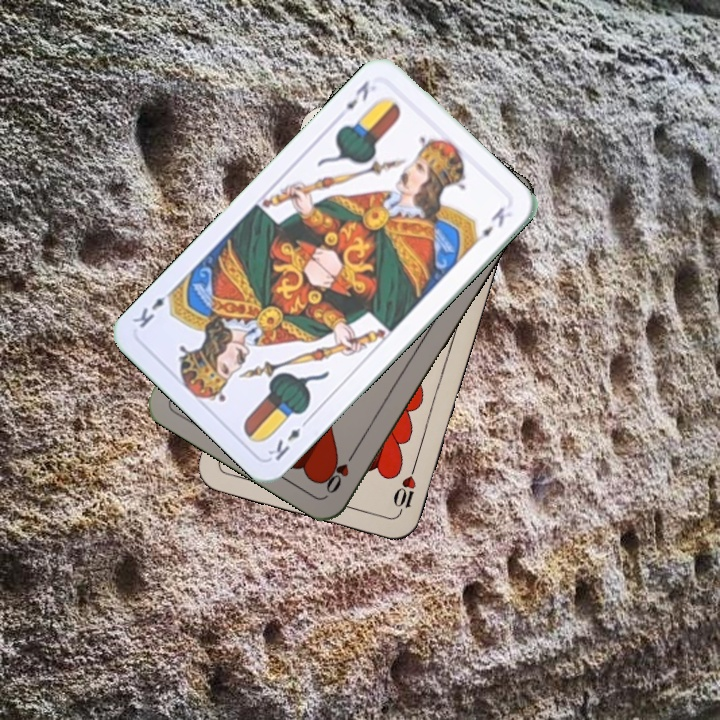EK: (264, 414, 312, 464), (341, 76, 372, 112)
H10: (389, 461, 419, 519)
HO: (322, 444, 360, 497)
